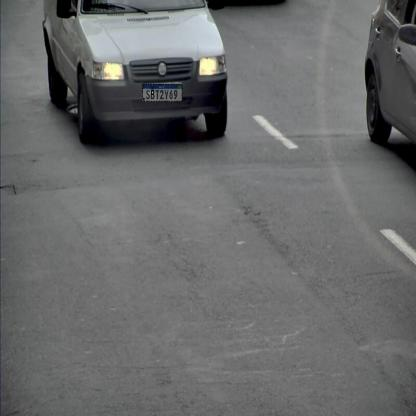PlacaM: (142, 84, 182, 102)
